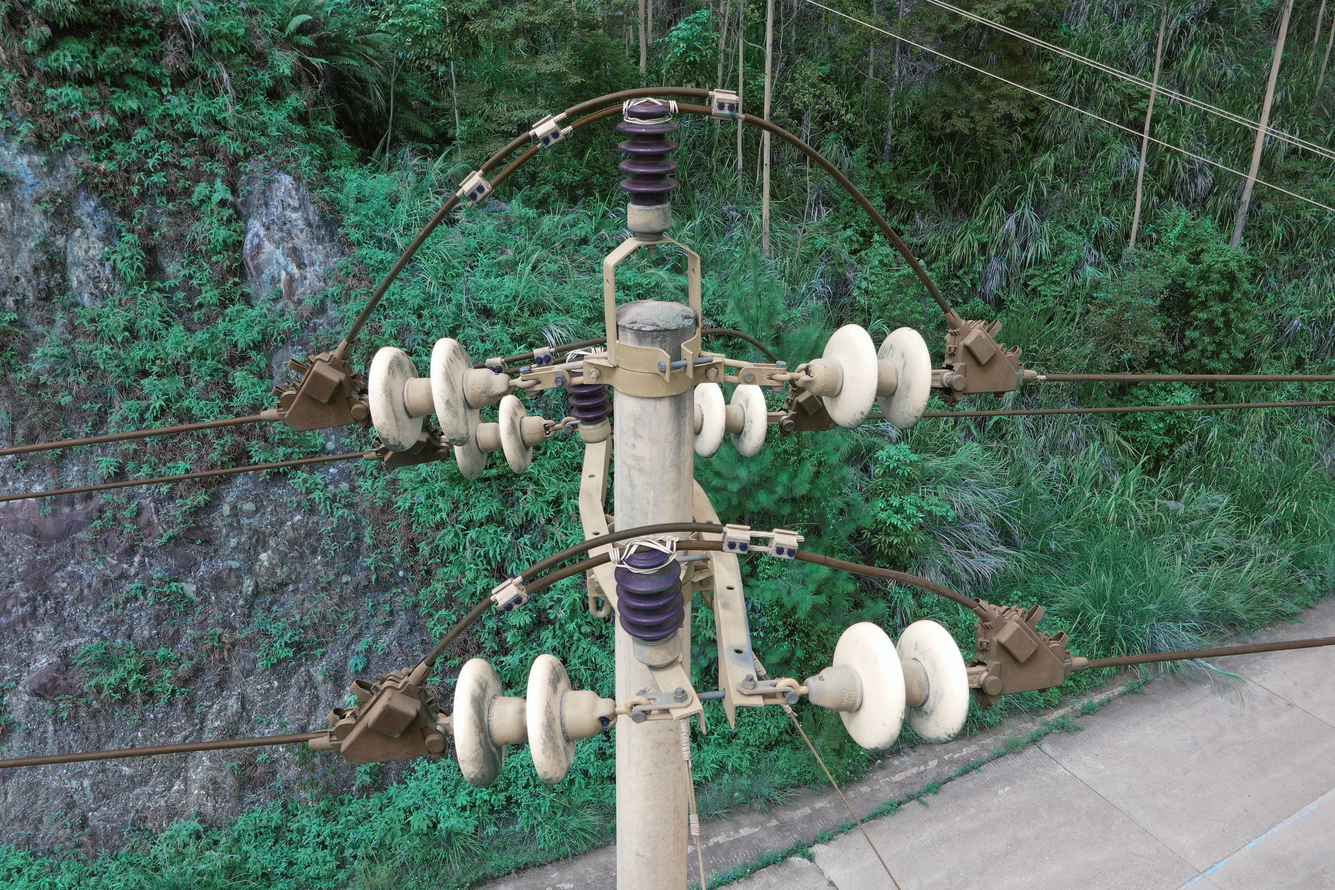severe_soiling_no_discharge_whole: (451, 648, 620, 797), (802, 617, 972, 756), (369, 335, 512, 452), (790, 317, 931, 432), (609, 538, 685, 668), (451, 396, 559, 482), (692, 381, 770, 462)
